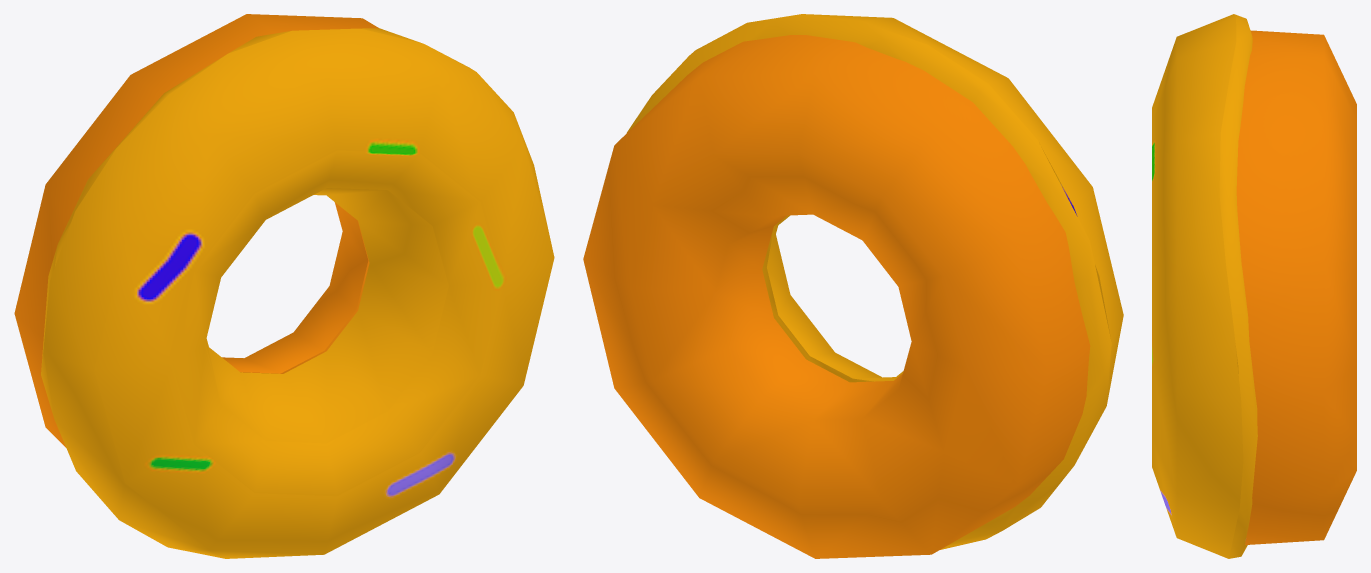
Rendered from yellow_donut.glb.
3 views of the same model, side by side, from view 1: azimuth 30°, elevation 25°; view 2: azimuth 150°, elevation 25°; view 3: azimuth 270°, elevation 25° (orthographic). The views are drawn at different scales.
Parts seen in each view (by area): view 1: Yellow_Donut; view 2: Yellow_Donut; view 3: Yellow_Donut.
Part boxes in pixels (x1=…): Yellow_Donut: x1=14, y1=14, x2=554, y2=558; Yellow_Donut: x1=583, y1=14, x2=1123, y2=558; Yellow_Donut: x1=1152, y1=14, x2=1356, y2=558.
Size of the model in its own units: 0.5966 by 0.6007 by 0.2247.
1 material, 1 textured.
